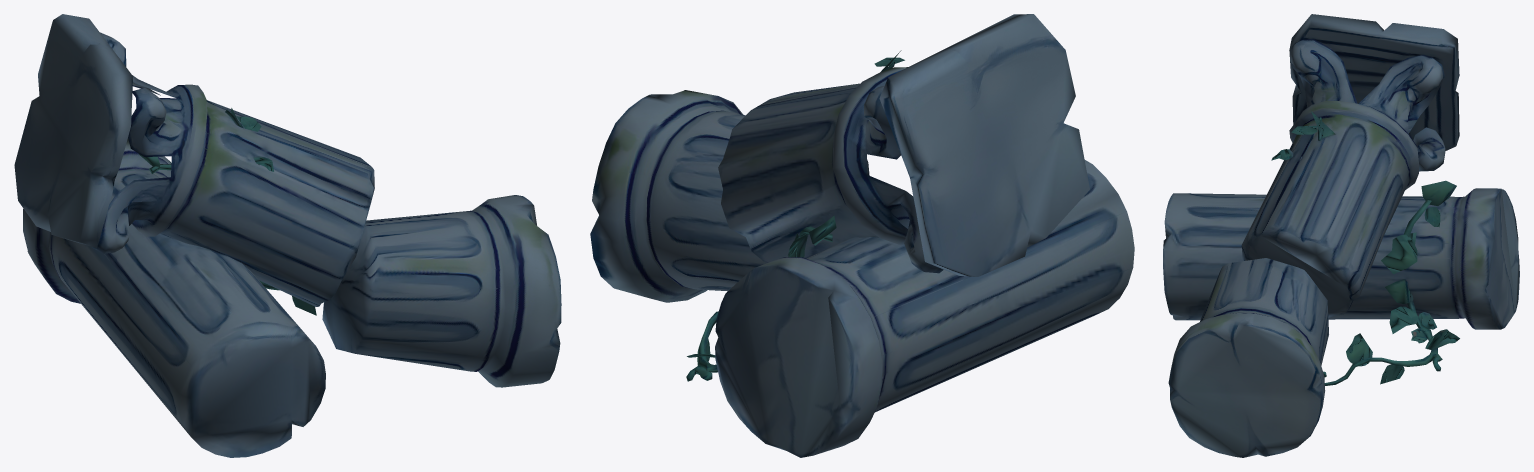
The model's file is map_brokenpillar_tripo.glb.
3 renders of one model, left to right at view 1: azimuth 30°, elevation 25°; view 2: azimuth 150°, elevation 25°; view 3: azimuth 270°, elevation 25°, orthographic. The views are drawn at different scales.
Parts seen in each view (by area): view 1: tripo_node_a2515dc7-2c7a-44b6-b5cb-e621d453a0e7; view 2: tripo_node_a2515dc7-2c7a-44b6-b5cb-e621d453a0e7; view 3: tripo_node_a2515dc7-2c7a-44b6-b5cb-e621d453a0e7.
Part boxes in pixels (x1,y1,x2,y2): tripo_node_a2515dc7-2c7a-44b6-b5cb-e621d453a0e7: (14,14,561,457); tripo_node_a2515dc7-2c7a-44b6-b5cb-e621d453a0e7: (590,14,1134,457); tripo_node_a2515dc7-2c7a-44b6-b5cb-e621d453a0e7: (1163,14,1519,457).
Size of the model in its own units: 0.998 by 0.8027 by 0.877.
1 material, 1 textured.
